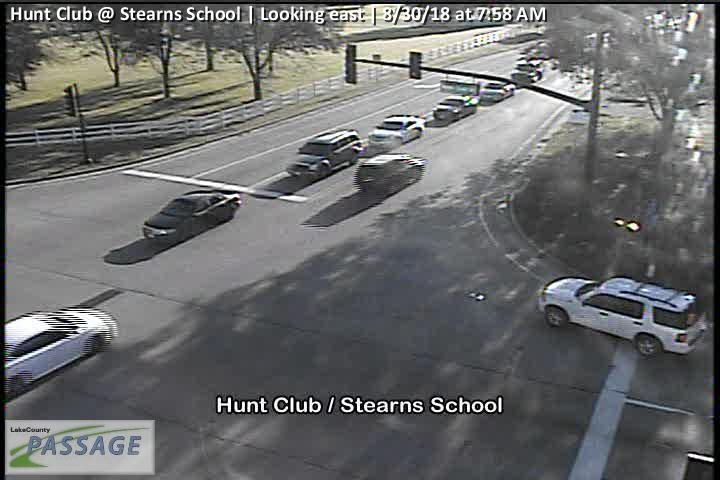SUV: (537, 275, 706, 356), (286, 129, 363, 182), (356, 153, 425, 193)
Sedan: (1, 308, 118, 408), (143, 190, 242, 240), (367, 114, 426, 148), (431, 96, 479, 121), (478, 80, 516, 102), (509, 61, 545, 82)
